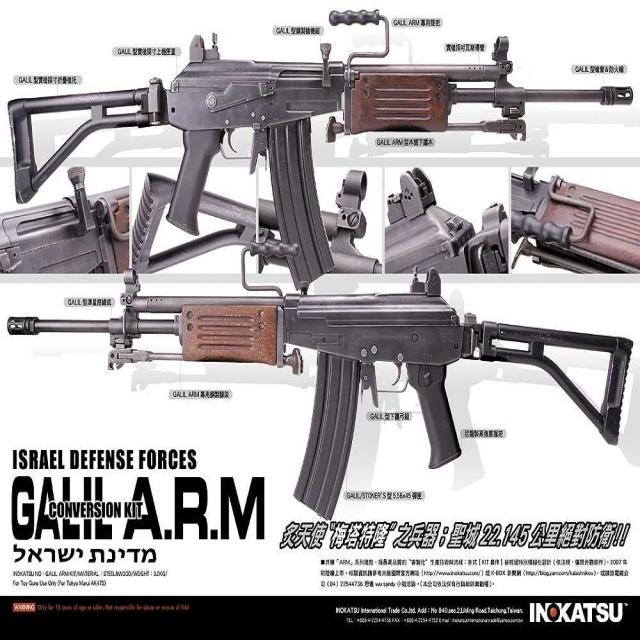heavyweapon: (6, 1, 637, 312), (1, 257, 633, 524)
